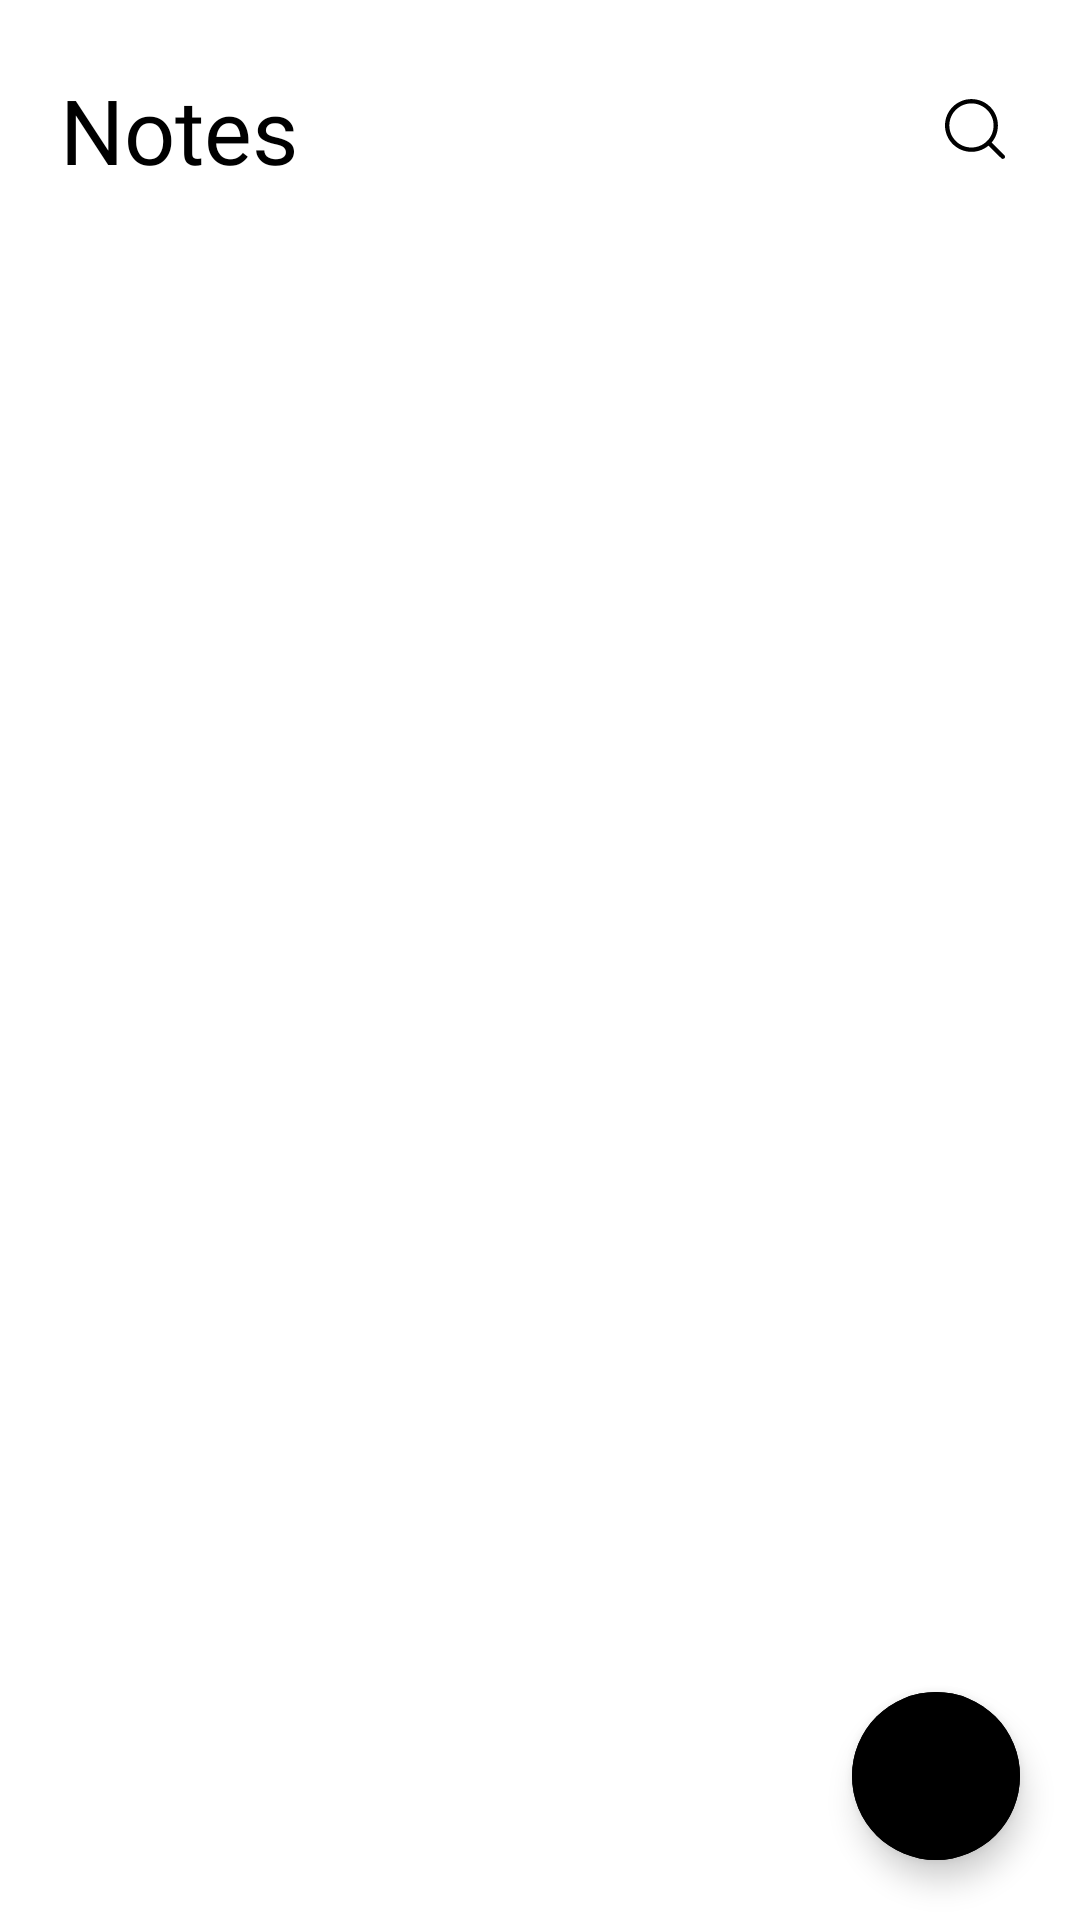

Icon click points for this 1080×1920 phone screenshot, format [x,y]:
search: [975,129]
